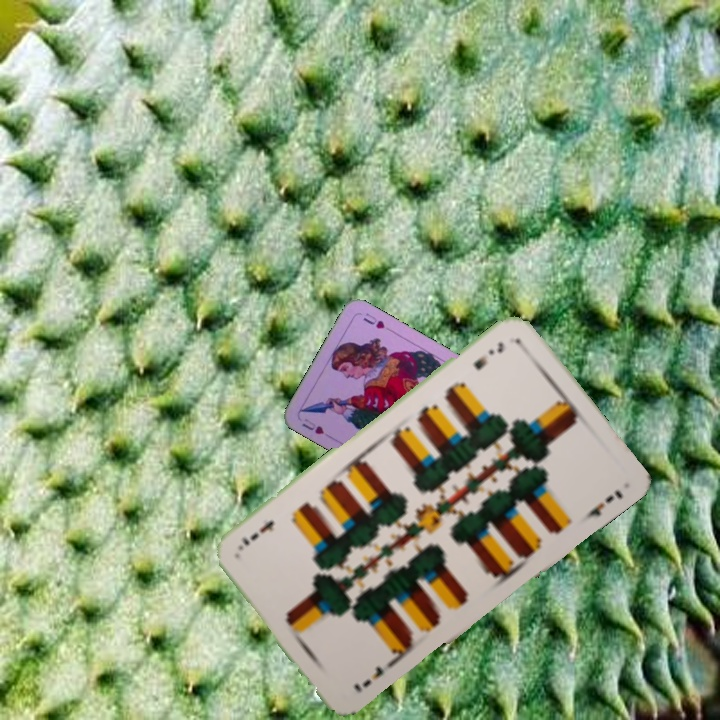E7: (469, 338, 507, 373), (349, 662, 386, 696)
HU: (298, 414, 327, 437)
